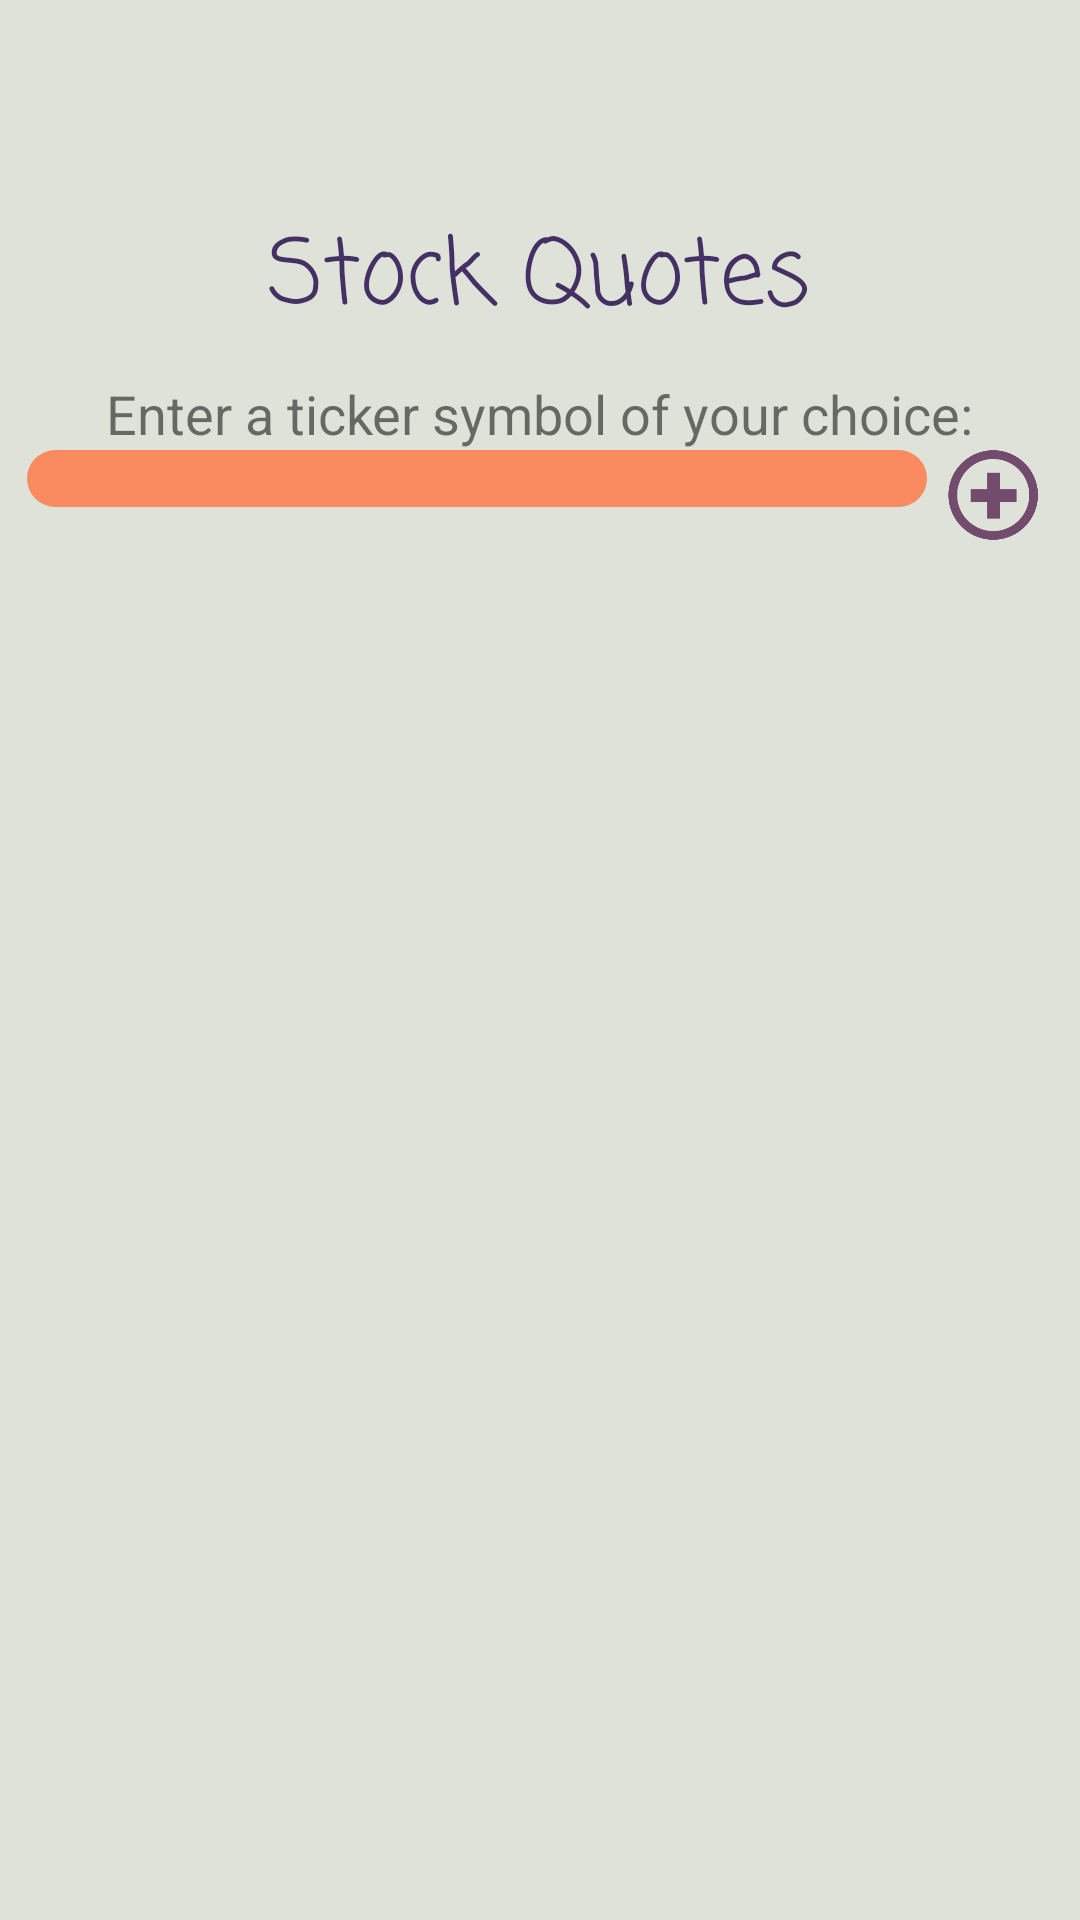

Icon click points for this 1080×1920 phone screenshot, format [x,y]:
add: [993,495]
